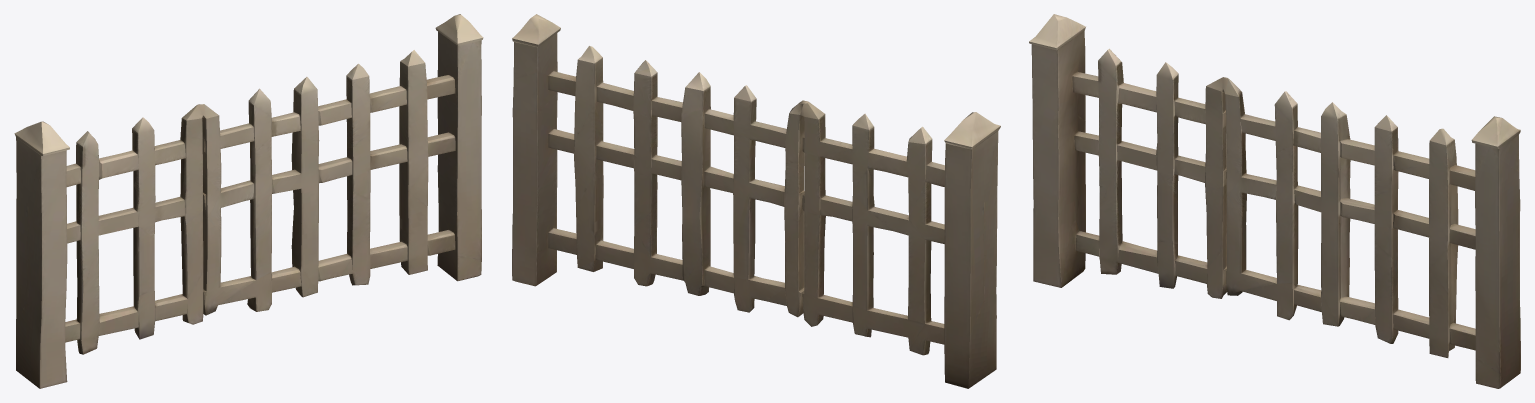
Rendered from picketFence.glb.
3 views of the same model, side by side, from view 1: azimuth 30°, elevation 25°; view 2: azimuth 150°, elevation 25°; view 3: azimuth 330°, elevation 25° (orthographic). The views are drawn at different scales.
Visible parts, largest first — view 1: model; view 2: model; view 3: model.
Boxes of the visible parts, x1,y1,x2,y2 form: model: (14,14,483,388); model: (512,14,1000,388); model: (1029,14,1520,388).
Size of the model in its own units: 1.9 by 1.05 by 0.2345.
1 material, 1 textured.
